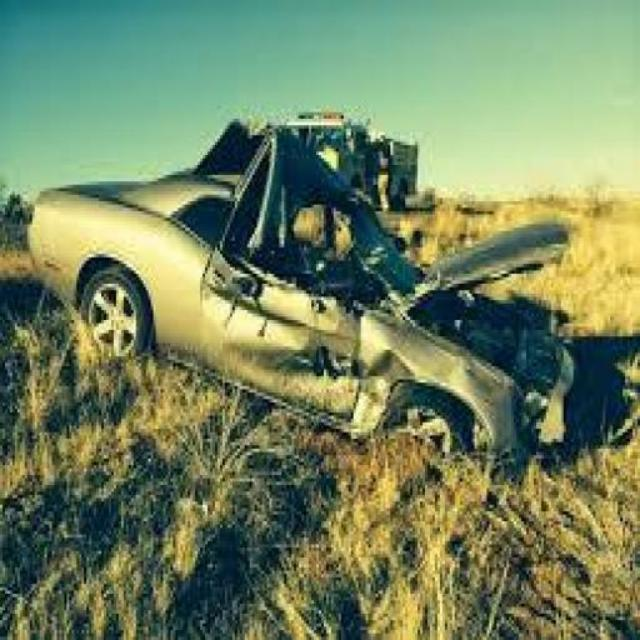crash: (202, 123, 577, 462)
